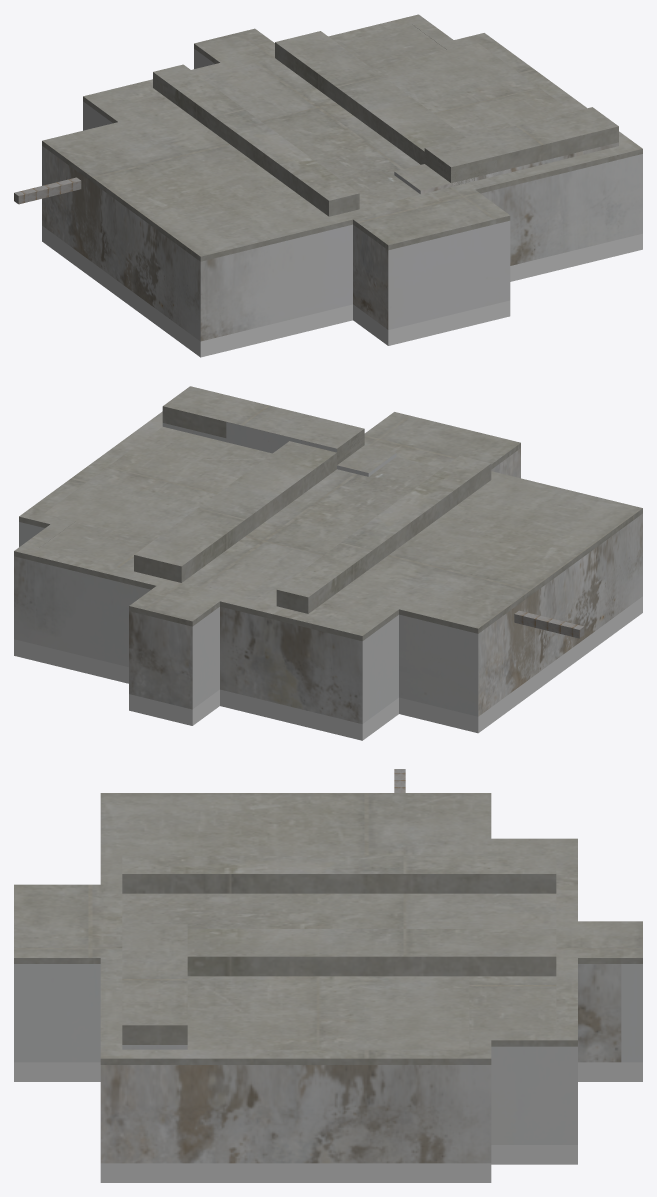
File: newTsimkShop_wip.fbx
3 renders of one model, top to bottom at view 1: azimuth 30°, elevation 25°; view 2: azimuth 150°, elevation 25°; view 3: azimuth 270°, elevation 25°, orthographic. The views are drawn at different scales.
Visible parts, largest first — view 1: ShopCeiling, ShopWalls, ShopFloor, Vents; view 2: ShopCeiling, ShopWalls, ShopFloor, Vents; view 3: ShopCeiling, ShopWalls, ShopFloor.
Boxes of the visible parts, x1=… form: ShopCeiling: x1=42, y1=14, x2=642, y2=261; ShopWalls: x1=42, y1=49, x2=642, y2=341; ShopFloor: x1=42, y1=226, x2=642, y2=357; Vents: x1=14, y1=177, x2=81, y2=204; ShopCeiling: x1=14, y1=386, x2=642, y2=641; ShopWalls: x1=14, y1=422, x2=642, y2=724; ShopFloor: x1=14, y1=596, x2=642, y2=740; Vents: x1=514, y1=610, x2=584, y2=638; ShopCeiling: x1=14, y1=793, x2=642, y2=1064; ShopWalls: x1=14, y1=964, x2=642, y2=1163; ShopFloor: x1=14, y1=1062, x2=642, y2=1182.
Bounding box in the file's own units: 3312 × 755 × 2900.
